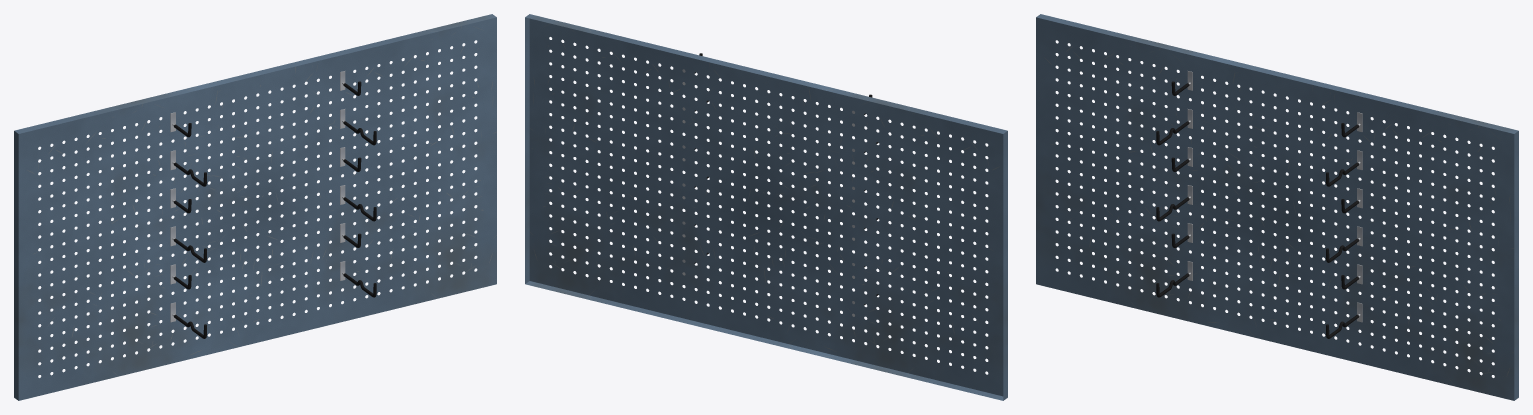
Rendered from waffenwand.obj.
3 renders of one model, left to right at view 1: azimuth 30°, elevation 25°; view 2: azimuth 150°, elevation 25°; view 3: azimuth 330°, elevation 25°, orthographic.
Visible parts, largest first — view 1: Lochwand_Platte; view 2: Lochwand_Platte; view 3: Lochwand_Platte.
Boxes of the visible parts, x1,y1,x2,y2 form: Lochwand_Platte: [14, 14, 496, 400]; Lochwand_Platte: [525, 14, 1007, 400]; Lochwand_Platte: [1036, 14, 1518, 400].
Size of the model in its own units: 1.5 by 0.8 by 0.2065.
3 materials, 3 textured.
